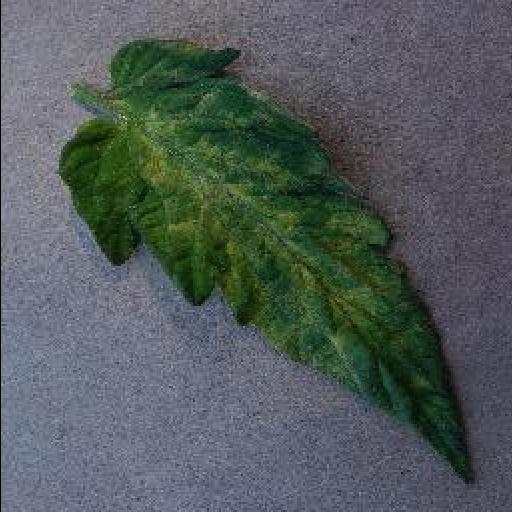disease_tomato: (62, 44, 474, 486)
